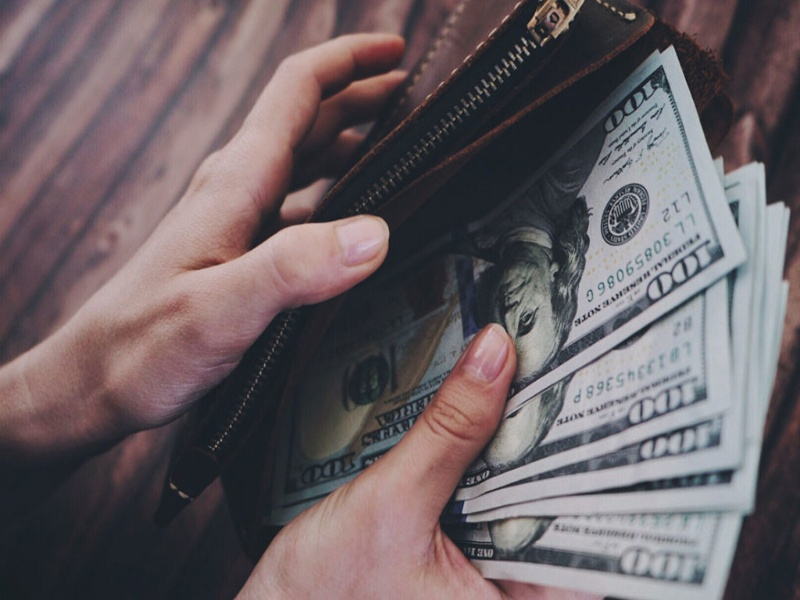cash: (263, 44, 792, 600)
